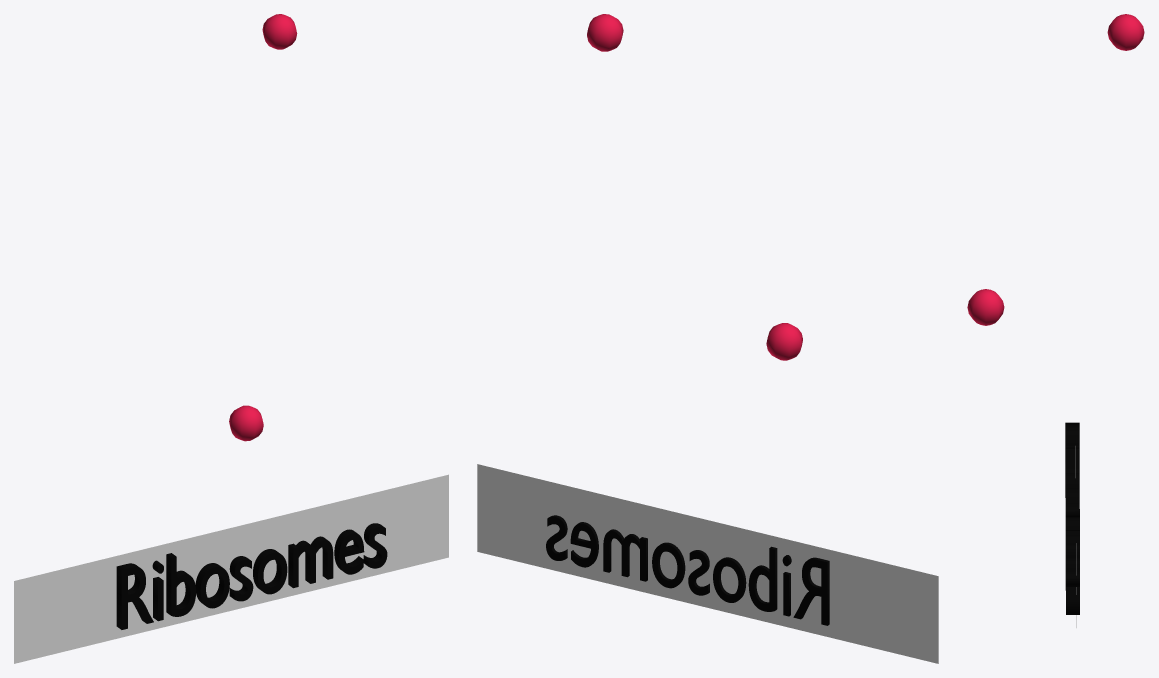
Rendered from robosomes.gltf.
The picture shows the model from 3 angles, left to right: view 1: azimuth 30°, elevation 25°; view 2: azimuth 150°, elevation 25°; view 3: azimuth 270°, elevation 25°; orthographic projection. The views are drawn at different scales.
Visible parts, largest first — view 1: Plane.040, Text.030, Piedras_Rojas.002; view 2: Plane.040, Text.030, Piedras_Rojas.002; view 3: Text.030, Piedras_Rojas.002.
Part boxes in pixels (x1,y1,x2,y2): Plane.040: (14,474,448,663); Text.030: (116,523,387,629); Piedras_Rojas.002: (229,14,297,441); Plane.040: (477,464,938,663); Text.030: (546,515,829,625); Piedras_Rojas.002: (587,14,802,360); Text.030: (1065,422,1079,614); Piedras_Rojas.002: (967,14,1144,325).
Bounding box in the file's own units: 1.33 × 1.64 × 0.4573.
